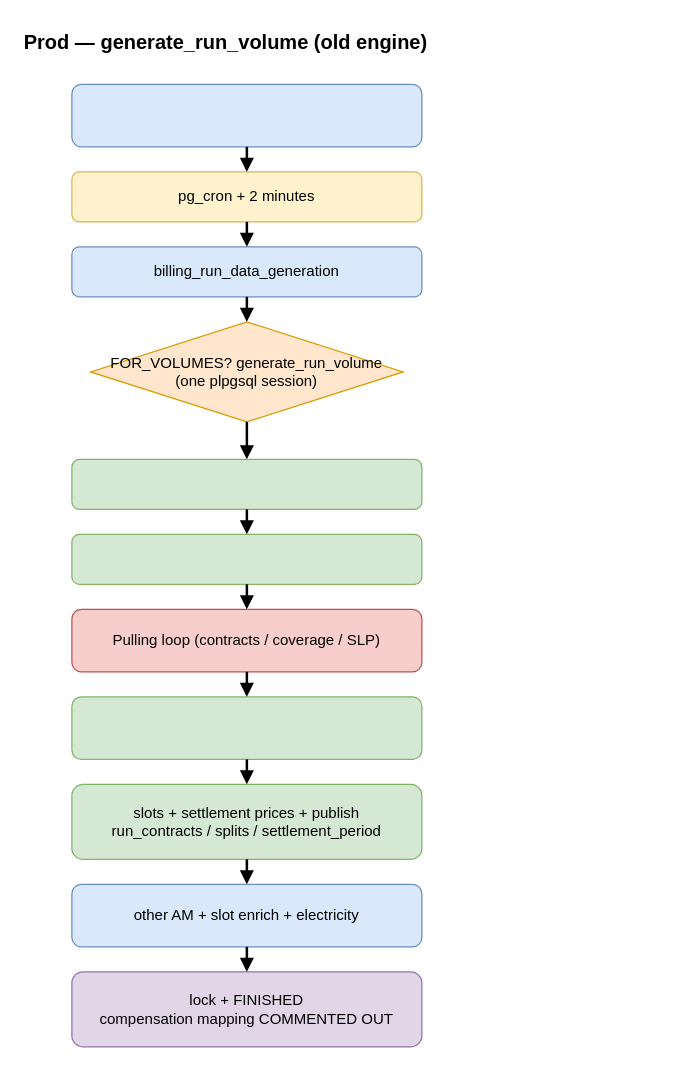
This 693x1069 diagram has some shape labels left out. Each missing label, with the centre of its shape:
"bdp_periods + volume_holder + mass SLP" goes at point 246,558.
"billing_data_by_profile + errors + PC mapping" goes at point 246,727.
"fill_by_volume_ri + fill_by_volume_bds" goes at point 246,483.
"run_standard_billing_main_data_preparation" goes at point 246,115.
